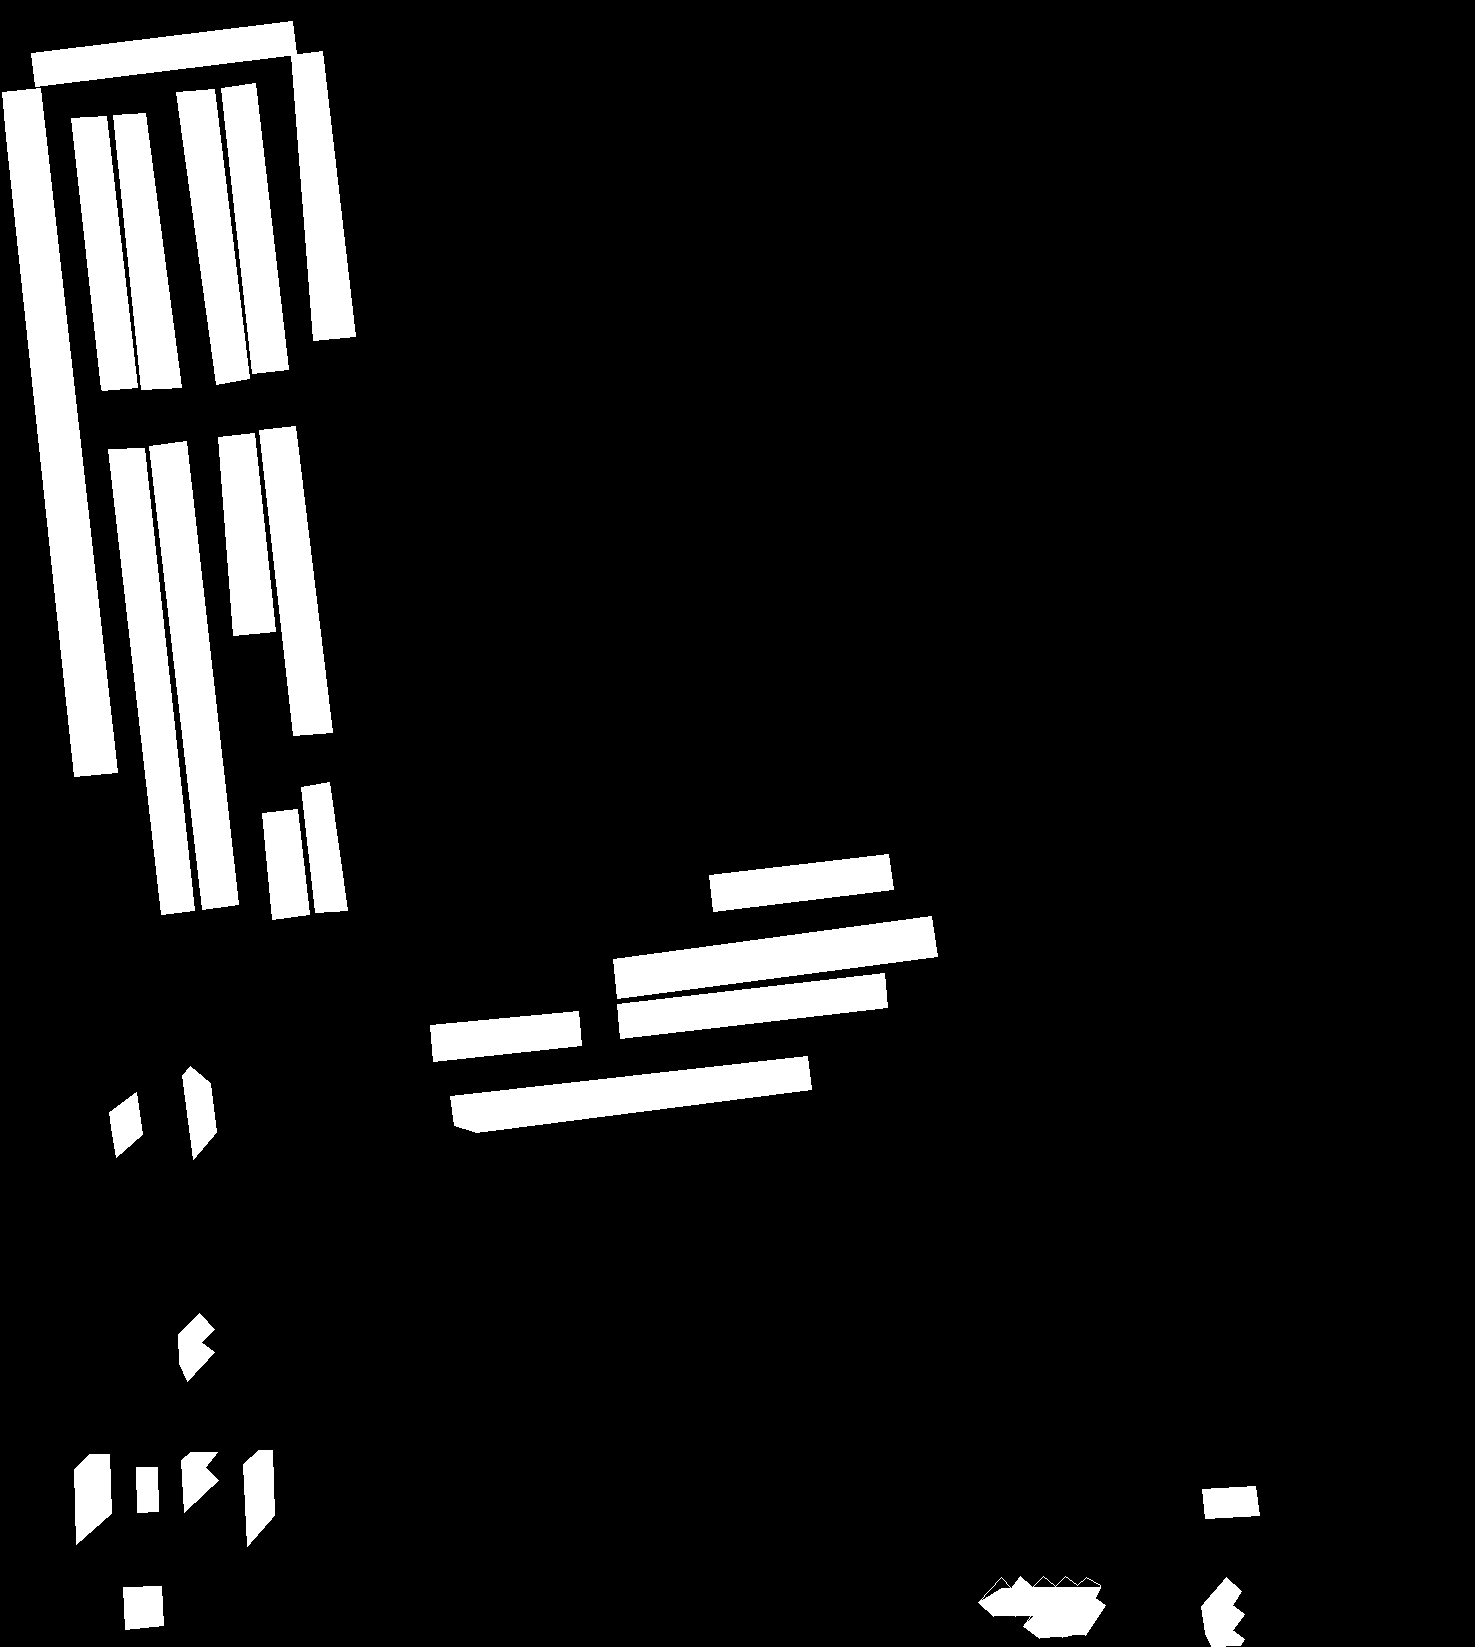parkingspot: (1, 87, 117, 776), (148, 440, 238, 910), (107, 447, 194, 914), (448, 1055, 812, 1132), (612, 915, 937, 998), (258, 426, 332, 735), (175, 88, 249, 384), (221, 83, 288, 373), (112, 112, 181, 389), (290, 50, 355, 340), (70, 115, 137, 390), (616, 972, 887, 1038), (30, 20, 296, 85), (218, 431, 275, 635), (708, 853, 893, 911), (978, 1576, 1105, 1638), (429, 1011, 581, 1061), (300, 782, 347, 912), (261, 809, 309, 920), (73, 1453, 111, 1545), (181, 1066, 216, 1159), (242, 1451, 273, 1546), (1202, 1577, 1244, 1646), (178, 1312, 214, 1381), (181, 1451, 218, 1512), (108, 1092, 142, 1157), (1202, 1486, 1259, 1517), (122, 1586, 162, 1628), (135, 1468, 158, 1512)
